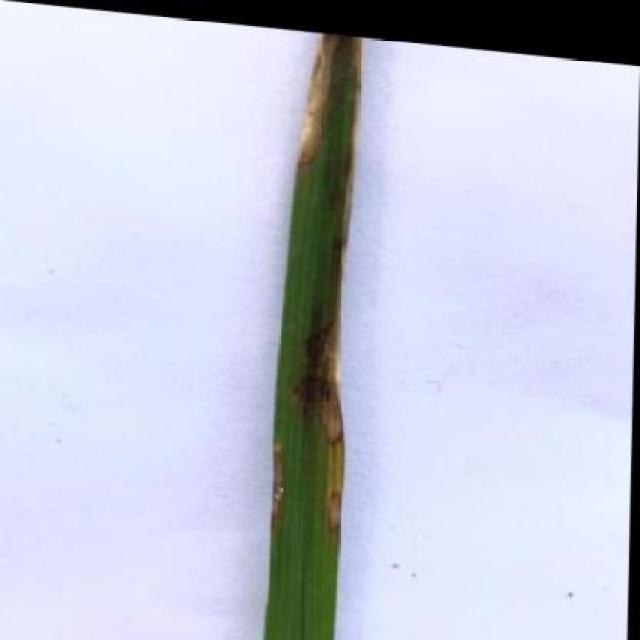Brown_Spot: (263, 21, 371, 640)
